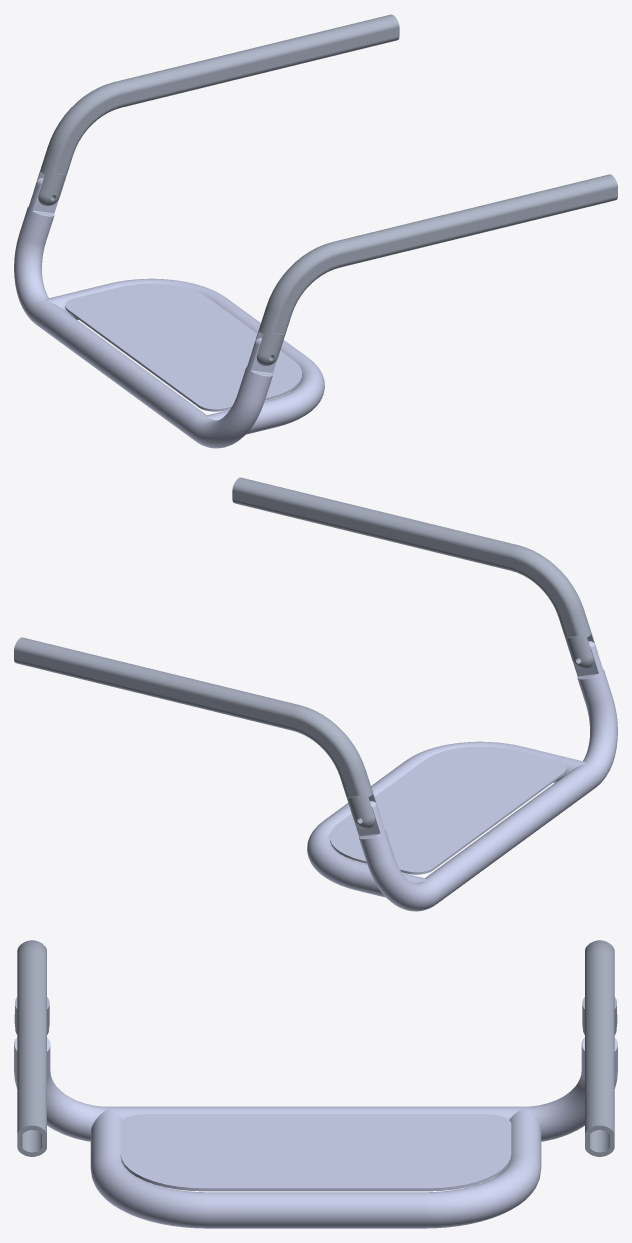
File: 2020-11-11_repose pieds monobloc_Ergo 08 et 09.fbx
3 views of the same model, one above another, from view 1: azimuth 30°, elevation 25°; view 2: azimuth 150°, elevation 25°; view 3: azimuth 270°, elevation 25° (orthographic). The views are drawn at different scales.
Visible parts, largest first — view 1: Body_1, Body_2, Body_1_3, Body_1_2, Body_2_3, Body_2_2; view 2: Body_1, Body_2, Body_1_2, Body_1_3, Body_2_2, Body_2_3; view 3: Body_2, Body_1, Body_1_2, Body_1_3.
Boxes of the visible parts, left/top/right/bottom form: Body_1: left=14, top=178, right=324, bottom=448; Body_2: left=65, top=283, right=302, bottom=411; Body_1_3: left=42, top=14, right=399, bottom=174; Body_1_2: left=260, top=174, right=617, bottom=334; Body_2_3: left=35, top=166, right=66, bottom=205; Body_2_2: left=253, top=326, right=285, bottom=365; Body_1: left=307, top=641, right=617, bottom=911; Body_2: left=329, top=746, right=566, bottom=874; Body_1_2: left=232, top=477, right=589, bottom=637; Body_1_3: left=14, top=637, right=371, bottom=797; Body_2_2: left=565, top=629, right=596, bottom=668; Body_2_3: left=346, top=789, right=378, bottom=828; Body_2: left=120, top=1114, right=511, bottom=1191; Body_1: left=14, top=1037, right=617, bottom=1228; Body_1_2: left=17, top=940, right=46, bottom=1156; Body_1_3: left=585, top=940, right=614, bottom=1156.
Bounding box in the file's own units: 0.3537 × 0.3646 × 0.1704.
